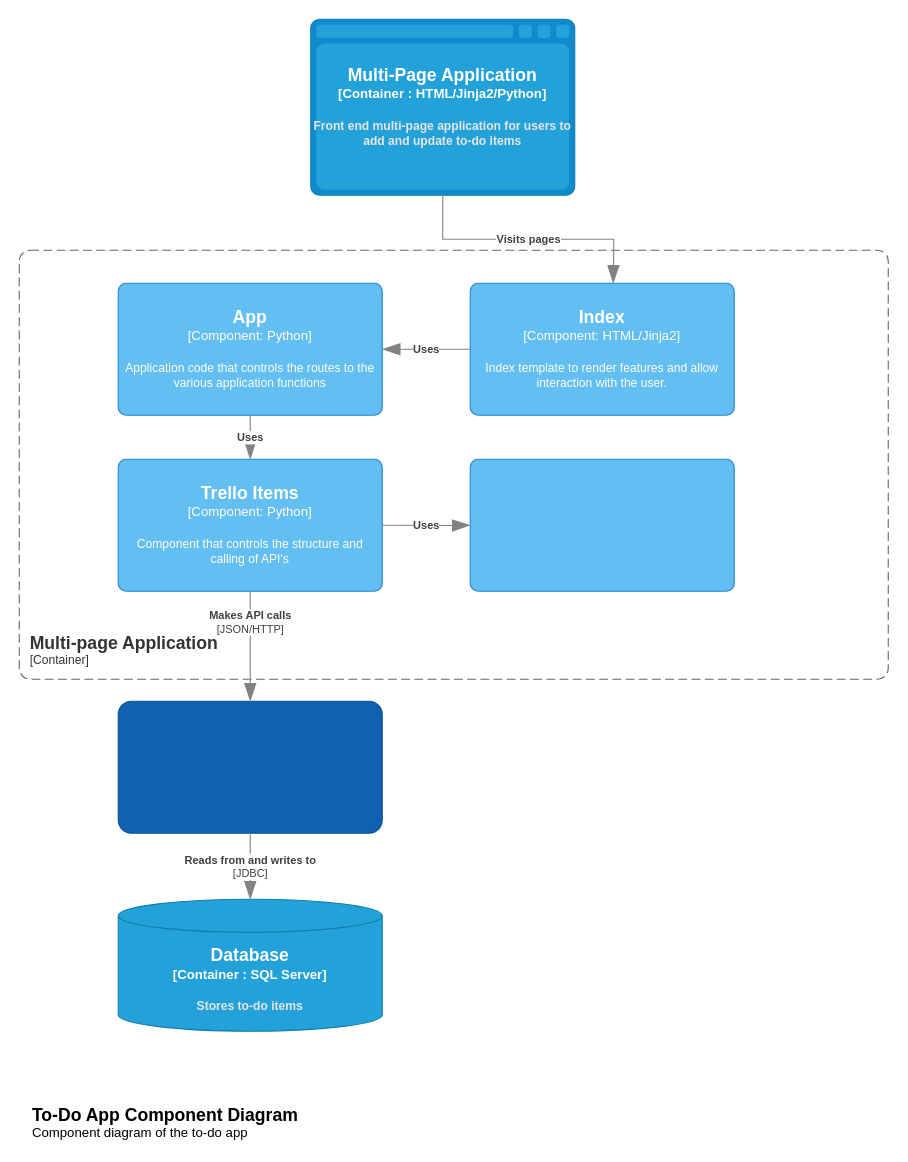
This 908x1162 diagram has some shape labels left out. Each missing label, with the centre of its shape:
.env [Component: .env] Environment Variables: the point at 601,524
Trello [Software System] External Application which controls the database: the point at 249,766
